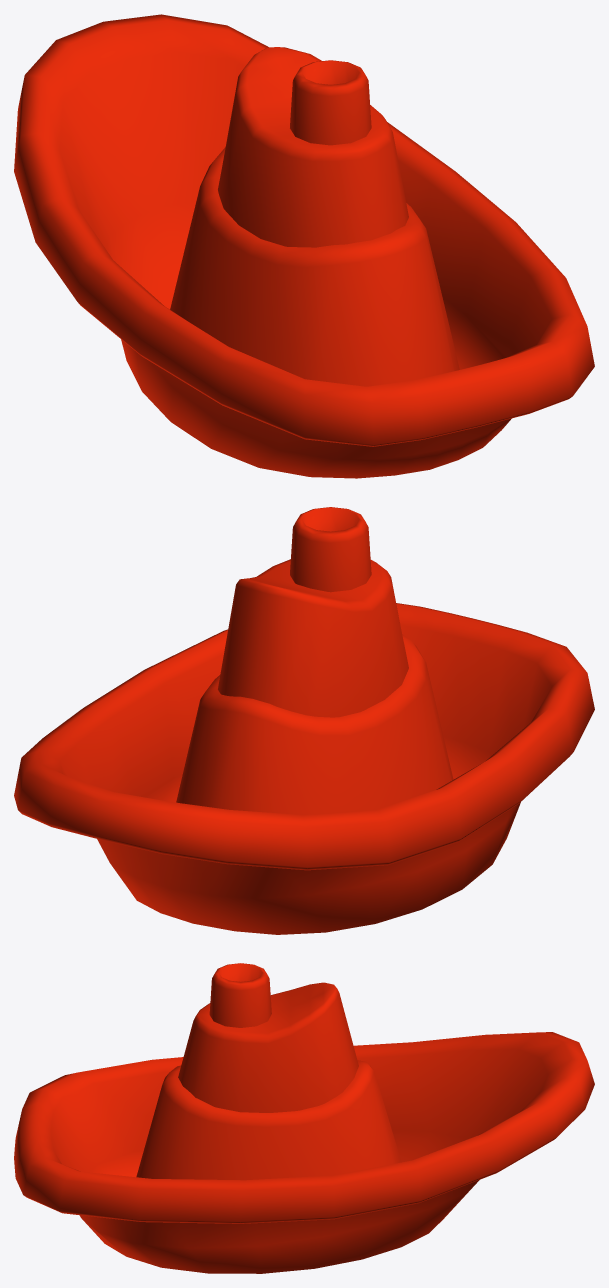
File: Barco.fbx
3 renders of one model, top to bottom at view 1: azimuth 30°, elevation 25°; view 2: azimuth 150°, elevation 25°; view 3: azimuth 270°, elevation 25°, orthographic. The views are drawn at different scales.
Parts seen in each view (by area): view 1: Barco; view 2: Barco; view 3: Barco.
Boxes of the visible parts, left/top/right/bottom form: Barco: left=14, top=14, right=594, bottom=478; Barco: left=14, top=507, right=594, bottom=934; Barco: left=14, top=963, right=594, bottom=1273.
Bounding box in the file's own units: 226 × 388 × 188.
